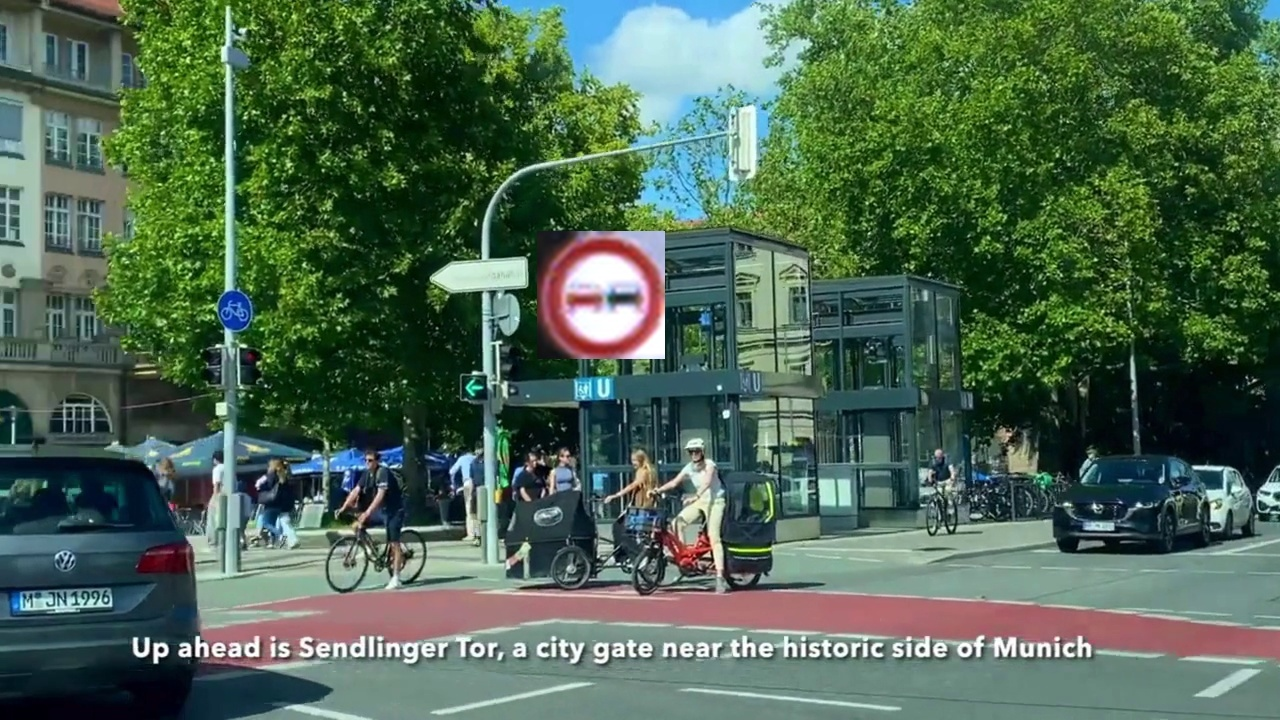No passing: (537, 231, 665, 359)
